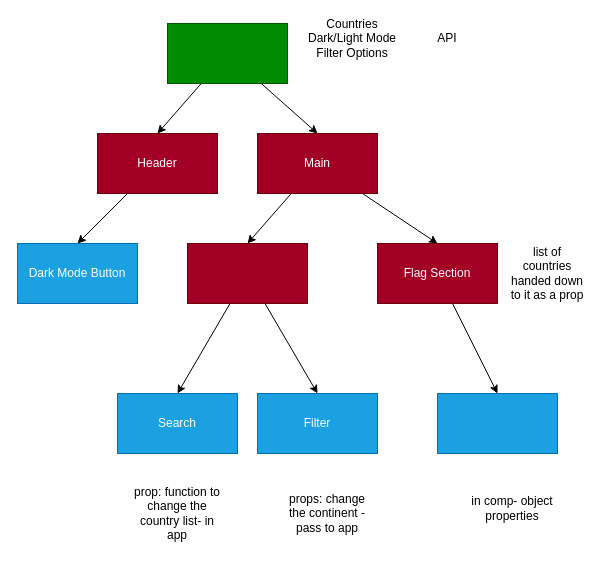
The diagram is 605 pixels wide and 571 high, and some of its shapes have lost their labels. Here are the shapes that lost their labels. From the top down, the box of each, then its label:
(166, 22, 288, 84): App
(186, 242, 308, 304): Top Bar?
(436, 392, 558, 454): Flag Card
